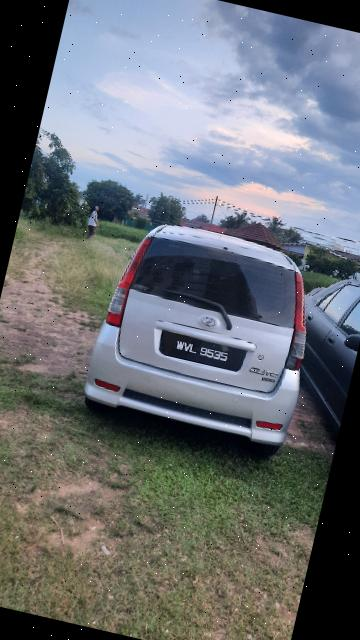License_Plate: (153, 325, 256, 377)
car: (78, 212, 333, 465)
